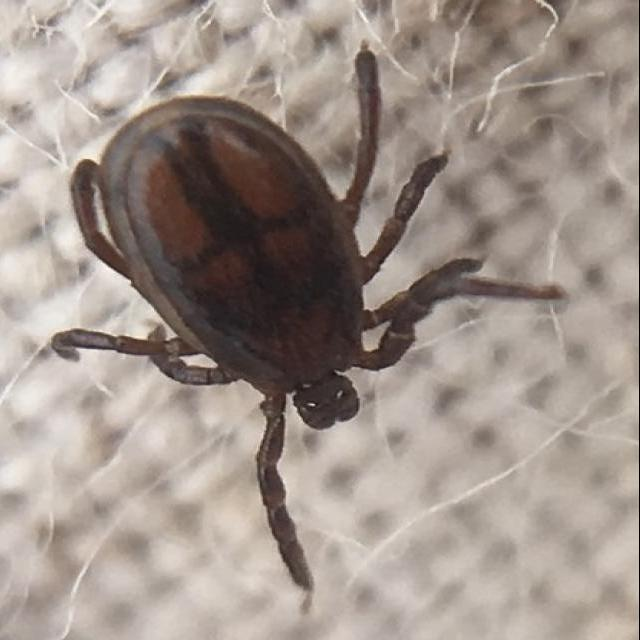Ixodes Ricinus-M: (51, 46, 568, 590)
